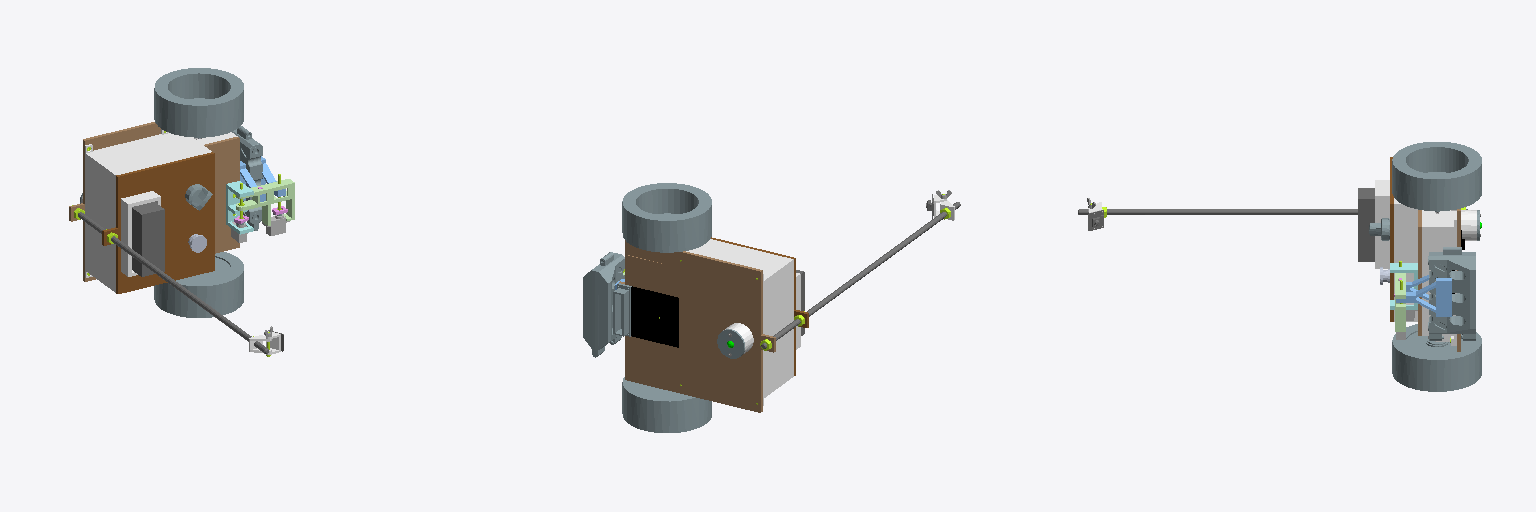
The model's file is chassis_with_obstacle.obj.
The picture shows the model from 3 angles: view 1: azimuth 30°, elevation 25°; view 2: azimuth 150°, elevation 25°; view 3: azimuth 270°, elevation 25°; orthographic projection.
Parts seen in each view (by area): view 1: chassis_bg.001; view 2: chassis_bg.001; view 3: chassis_bg.001.
Boxes of the visible parts, x1,y1,x2,y2 form: chassis_bg.001: [69, 68, 294, 356]; chassis_bg.001: [583, 183, 960, 432]; chassis_bg.001: [1078, 142, 1481, 391].
Bounding box in the file's own units: 0.285 × 0.3 × 0.5175.